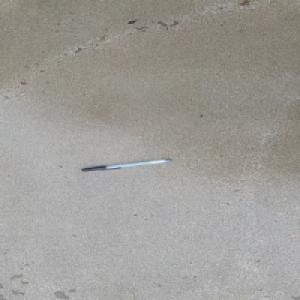Pen: (80, 157, 172, 172)
